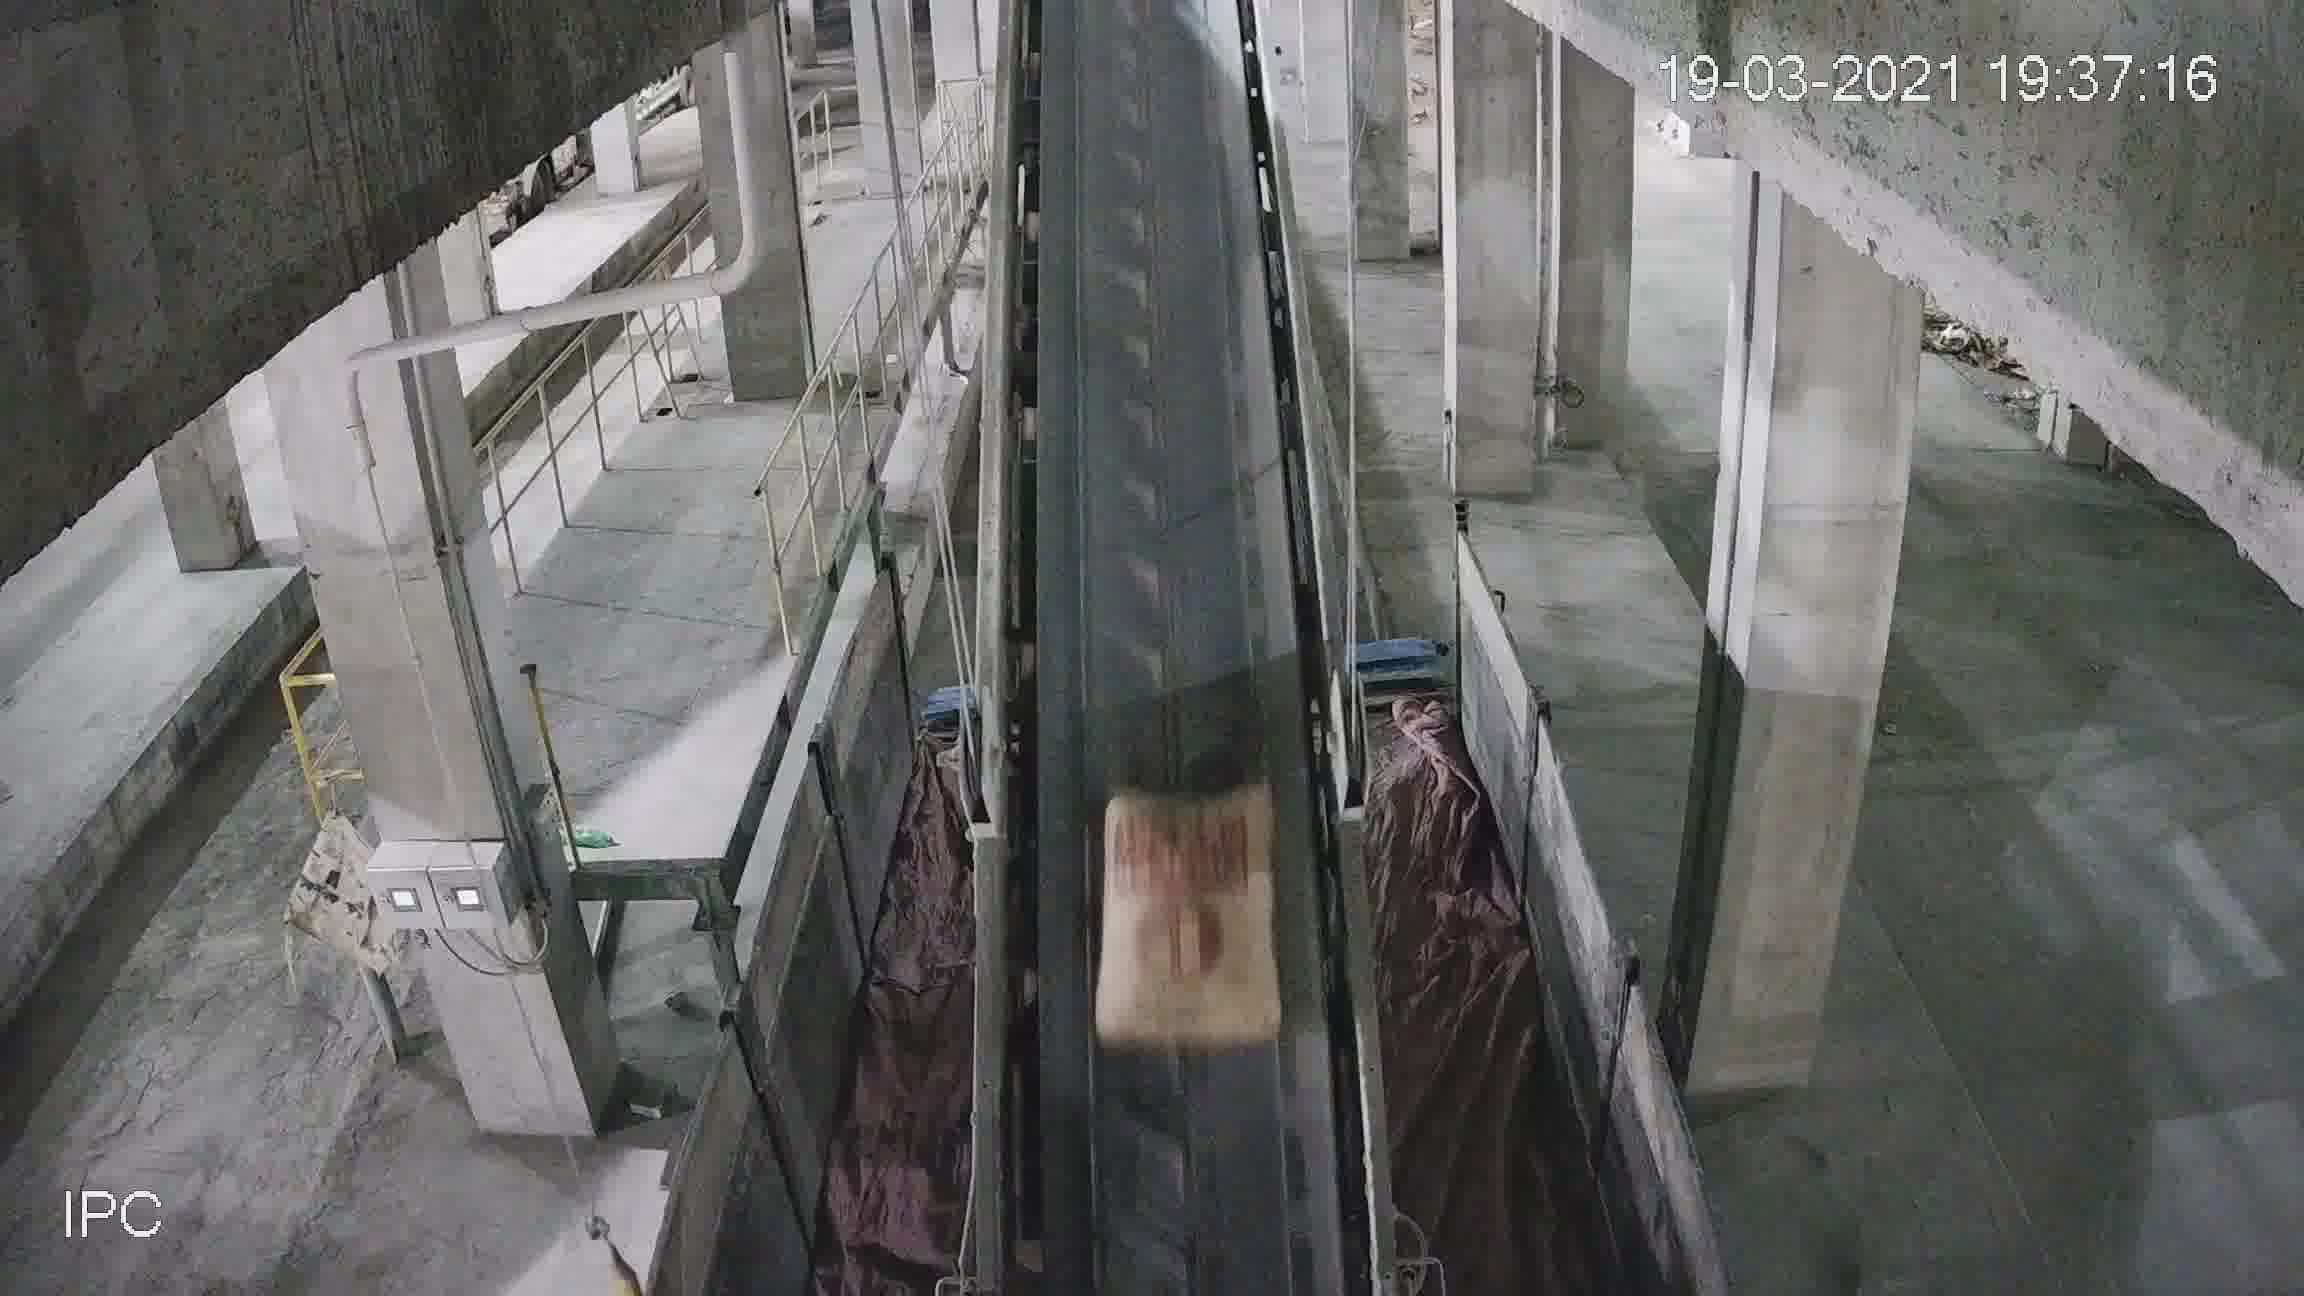bag: (1101, 801, 1275, 1054)
belt: (989, 28, 1386, 1195)
